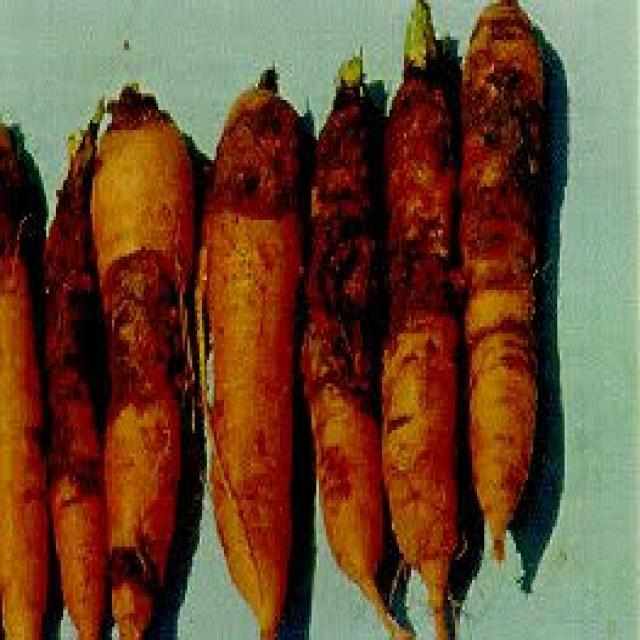Stale_Carrot: (299, 25, 416, 565), (66, 125, 206, 531), (9, 6, 111, 513), (460, 0, 555, 517), (374, 34, 466, 562), (200, 52, 346, 269)
